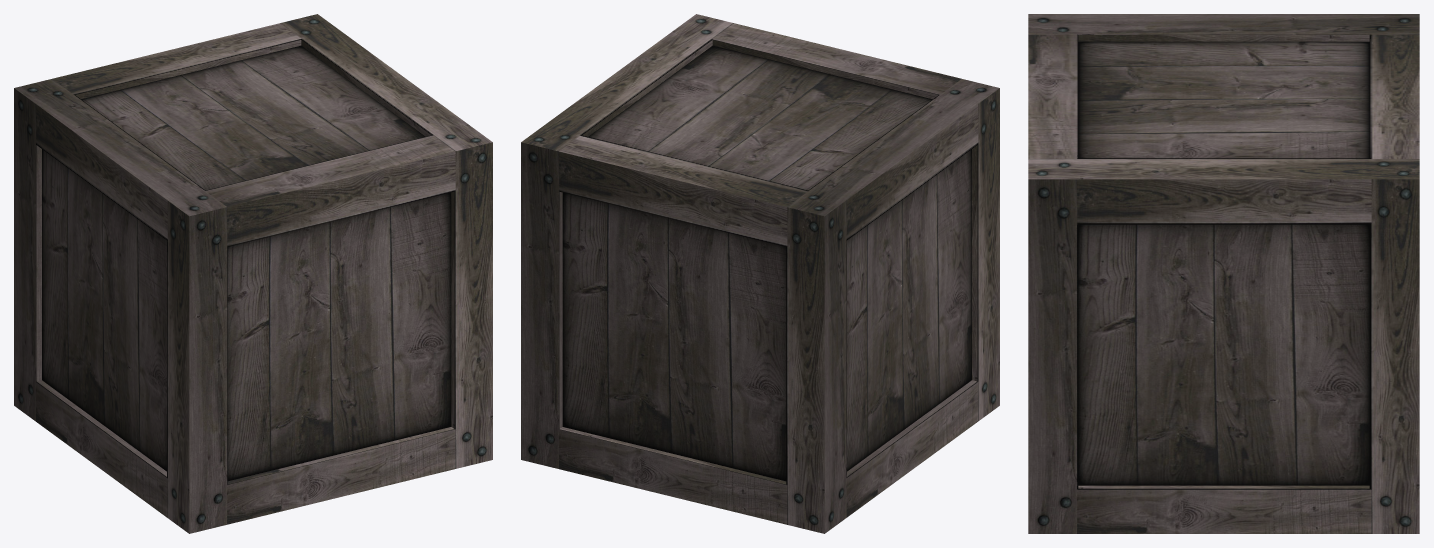
Rendered from Crate.FBX.
3 renders of one model, left to right at view 1: azimuth 30°, elevation 25°; view 2: azimuth 150°, elevation 25°; view 3: azimuth 270°, elevation 25°, orthographic. The views are drawn at different scales.
Parts seen in each view (by area): view 1: Box001; view 2: Box001; view 3: Box001.
Part boxes in pixels (x1,y1,x2,y2): Box001: (14,14,492,533); Box001: (521,14,999,533); Box001: (1028,14,1419,533).
Bounding box in the file's own units: 12.95 × 12.95 × 12.95.
Materials: 1 (1 with a texture image).
